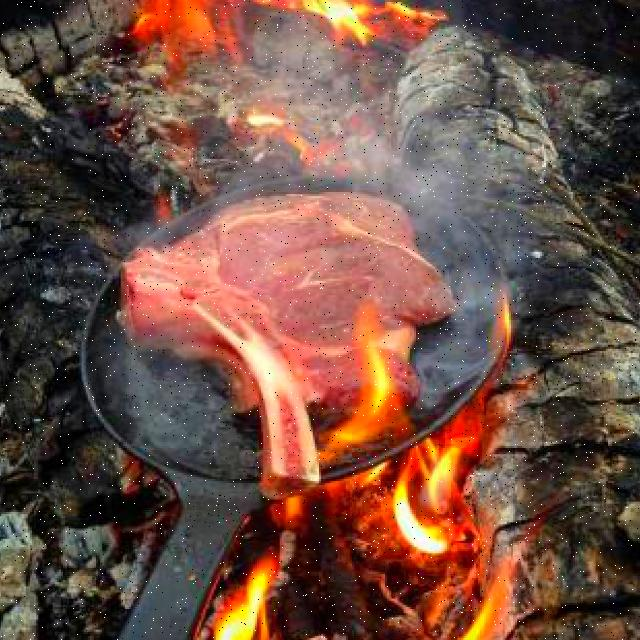fire: (206, 336, 509, 640), (130, 0, 429, 66)
smoke: (67, 19, 536, 428)
